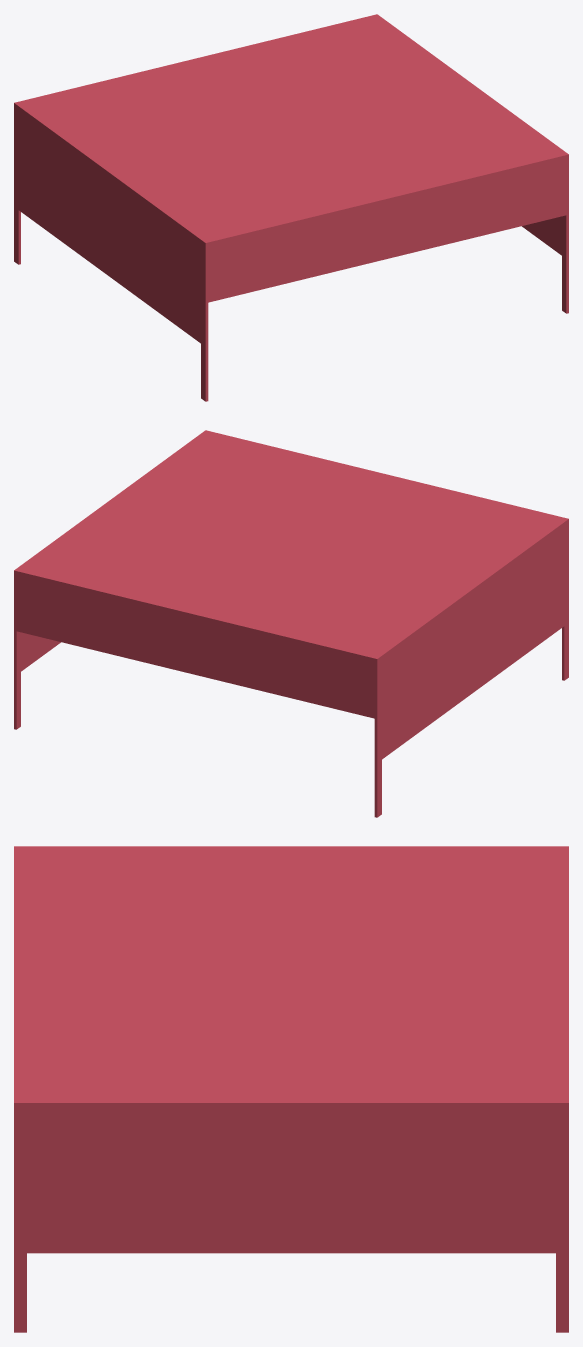
The model's file is Table.glb.
The picture shows the model from 3 angles, top to bottom: view 1: azimuth 30°, elevation 25°; view 2: azimuth 150°, elevation 25°; view 3: azimuth 270°, elevation 25°; orthographic projection. The views are drawn at different scales.
Visible parts, largest first — view 1: Mesh_Mesh_head_geo.001_lambert2SG.001; view 2: Mesh_Mesh_head_geo.001_lambert2SG.001; view 3: Mesh_Mesh_head_geo.001_lambert2SG.001.
Part boxes in pixels (x1,y1,x2,y2): Mesh_Mesh_head_geo.001_lambert2SG.001: (14,14,568,401); Mesh_Mesh_head_geo.001_lambert2SG.001: (14,430,568,817); Mesh_Mesh_head_geo.001_lambert2SG.001: (14,846,568,1332).
Bounding box in the file's own units: 139 × 58 × 127.
